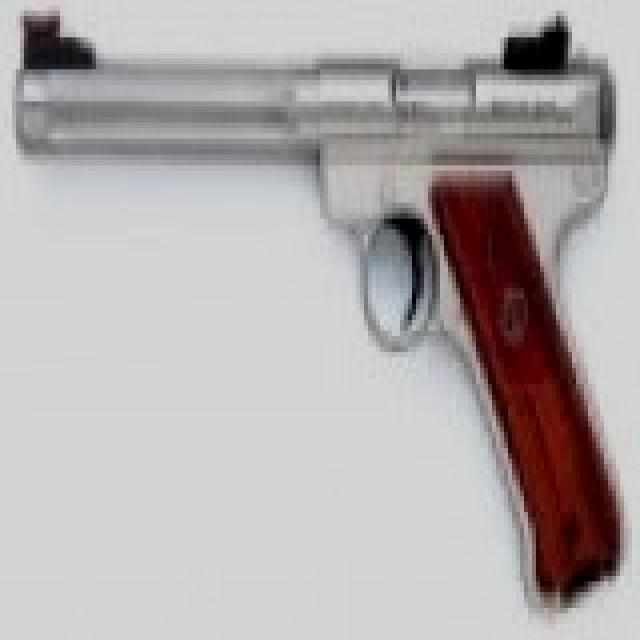pistol: (24, 0, 628, 592)
